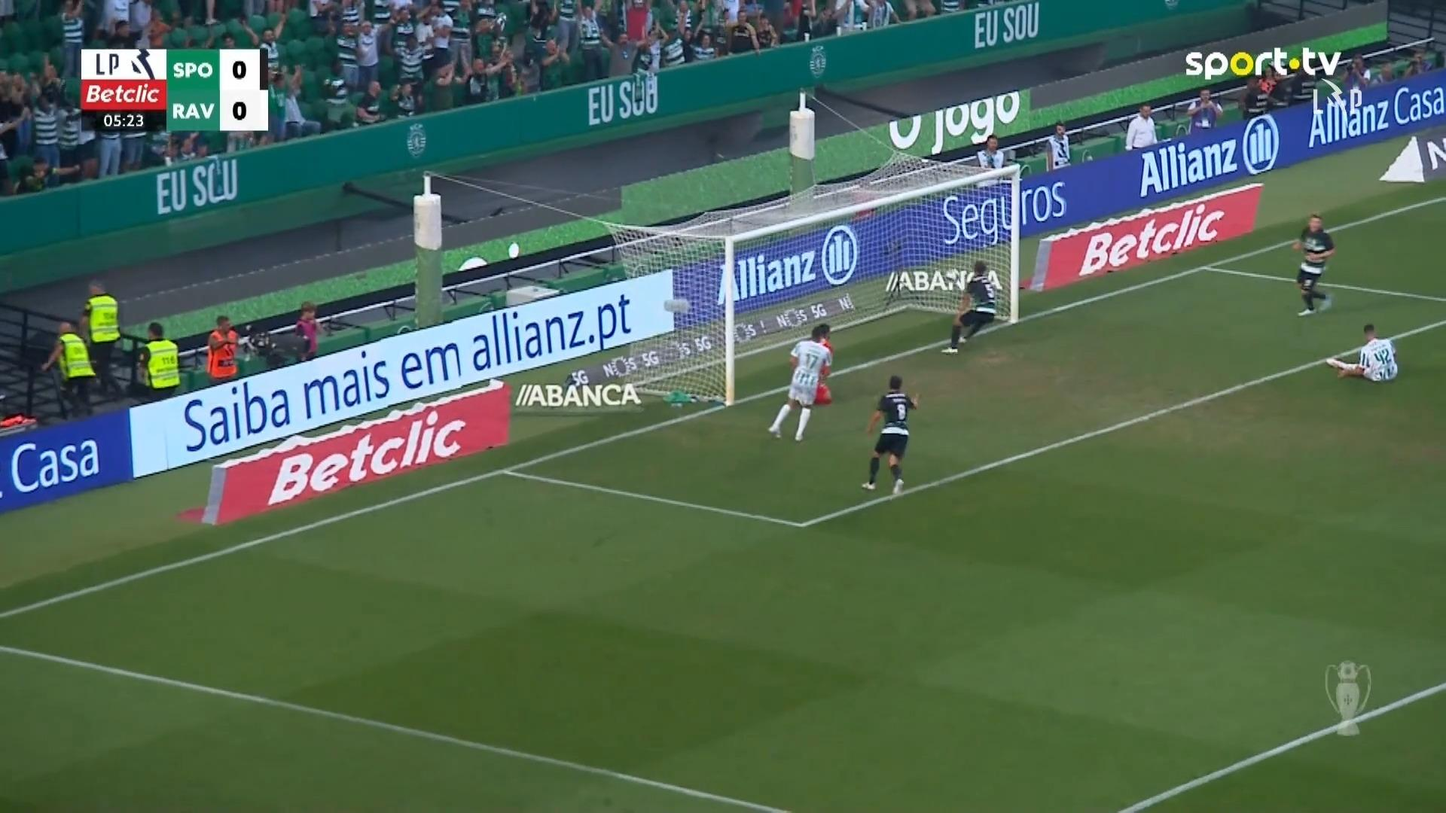goalkeeper: (814, 322, 836, 403)
player: (767, 322, 834, 442), (859, 373, 919, 495), (941, 259, 1001, 354), (40, 319, 97, 418), (1292, 212, 1335, 316), (1325, 322, 1398, 382), (136, 321, 181, 400)
